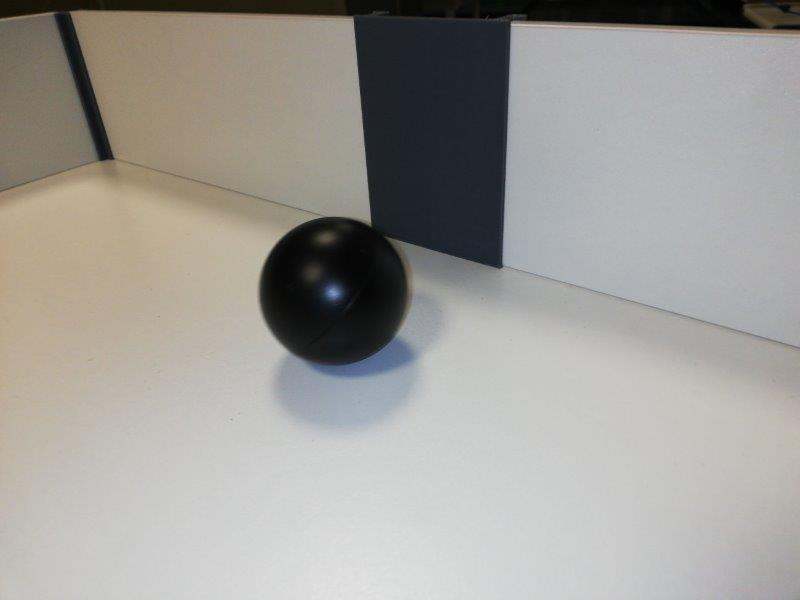nera: (259, 218, 407, 367)
